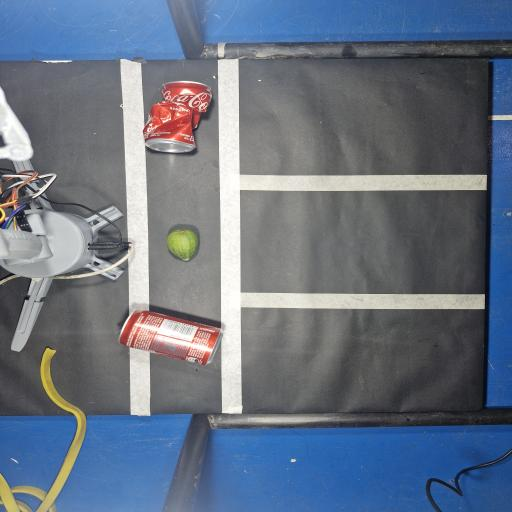higo: (167, 229, 198, 261)
lata: (120, 311, 220, 365)
lata_defectuoso: (143, 82, 211, 152)
